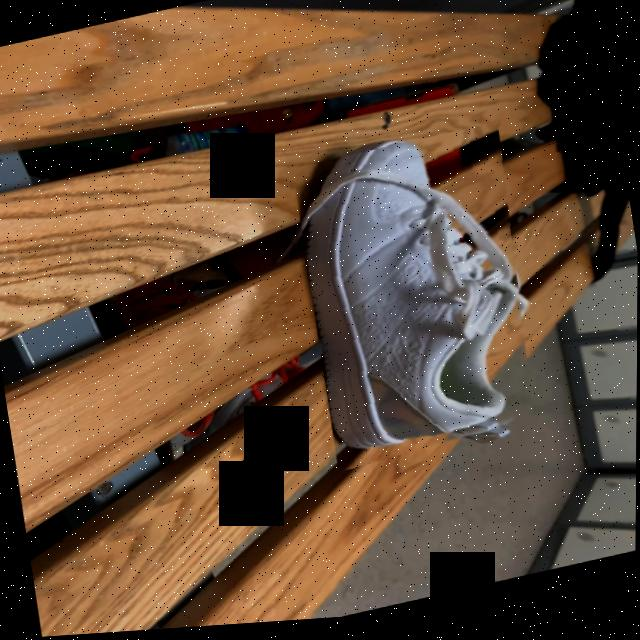shoe: (305, 150, 521, 457)
